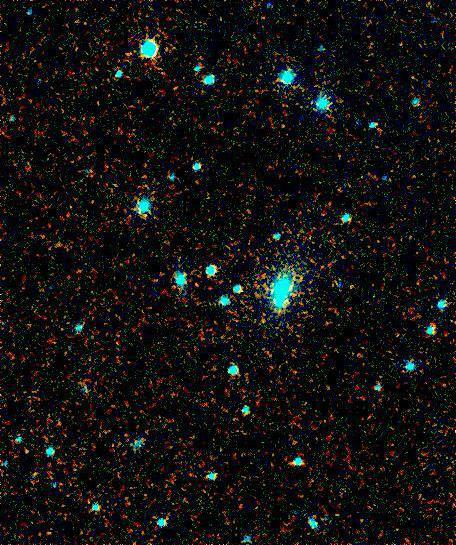star: (15, 438, 45, 468)
